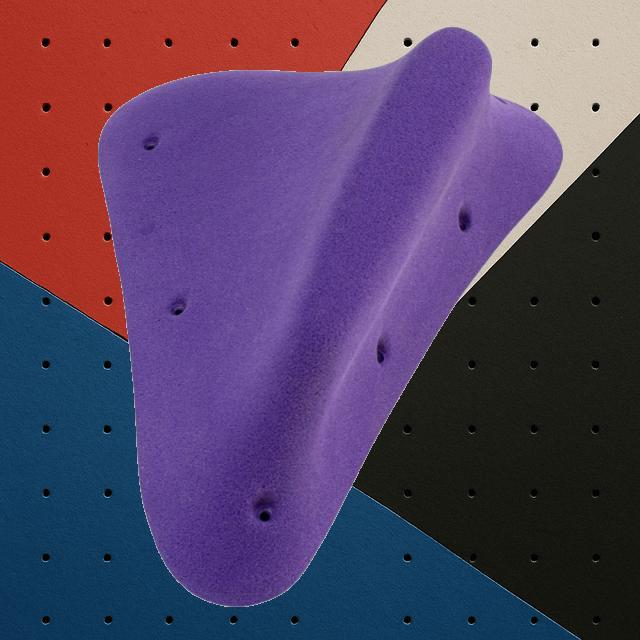Pinch: (96, 25, 564, 607)
